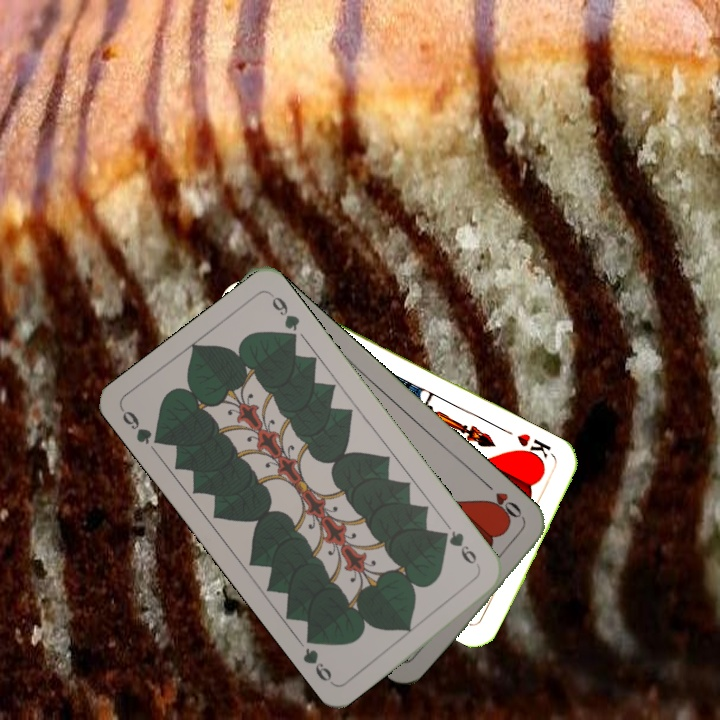G9: (436, 526, 483, 572), (117, 405, 167, 448)
HK: (512, 429, 559, 467)
HO: (481, 478, 528, 526)
